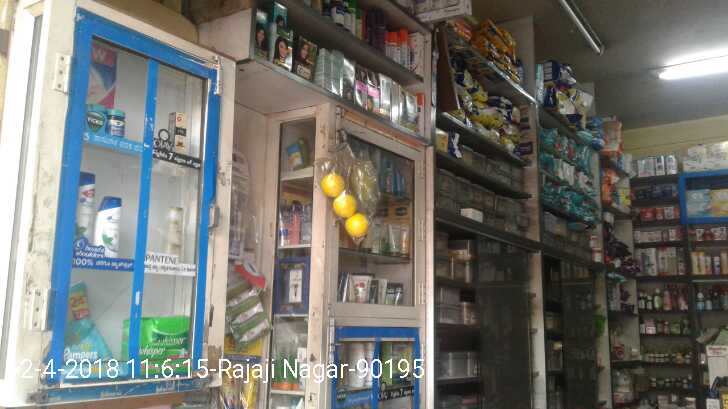vicks: (106, 111, 127, 135)
